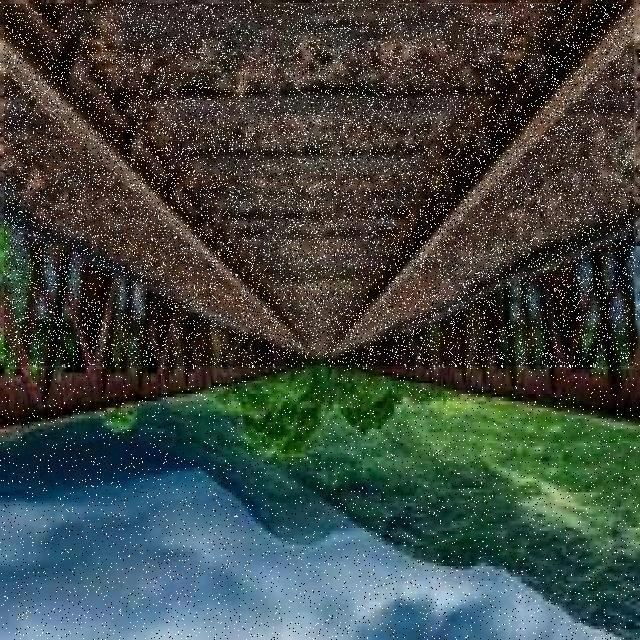rail: (5, 5, 635, 367)
